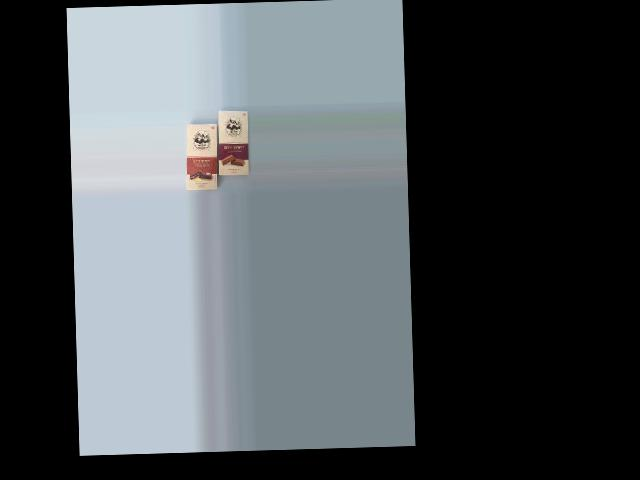chocolate: (183, 120, 225, 191)
